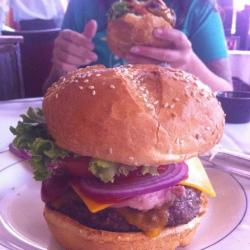burger: (42, 65, 226, 250), (106, 1, 179, 65)
